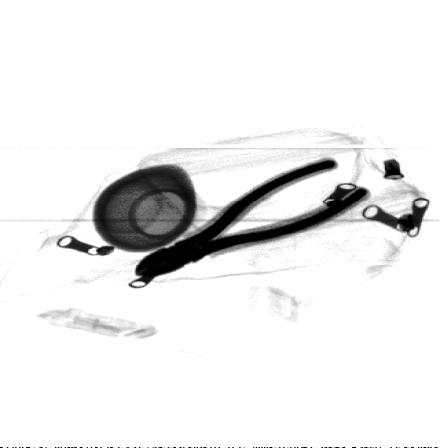Pliers: (133, 155, 371, 281)
